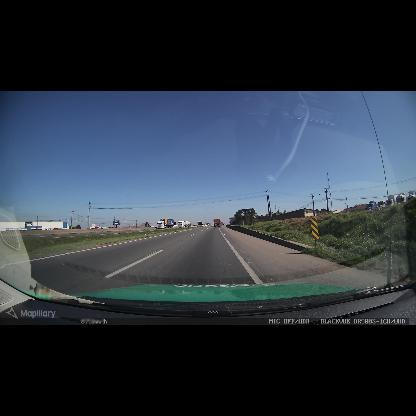O-MP: (310, 217, 320, 240)
